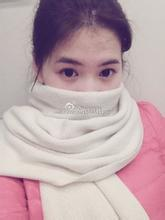WRONG: (39, 38, 127, 126)
